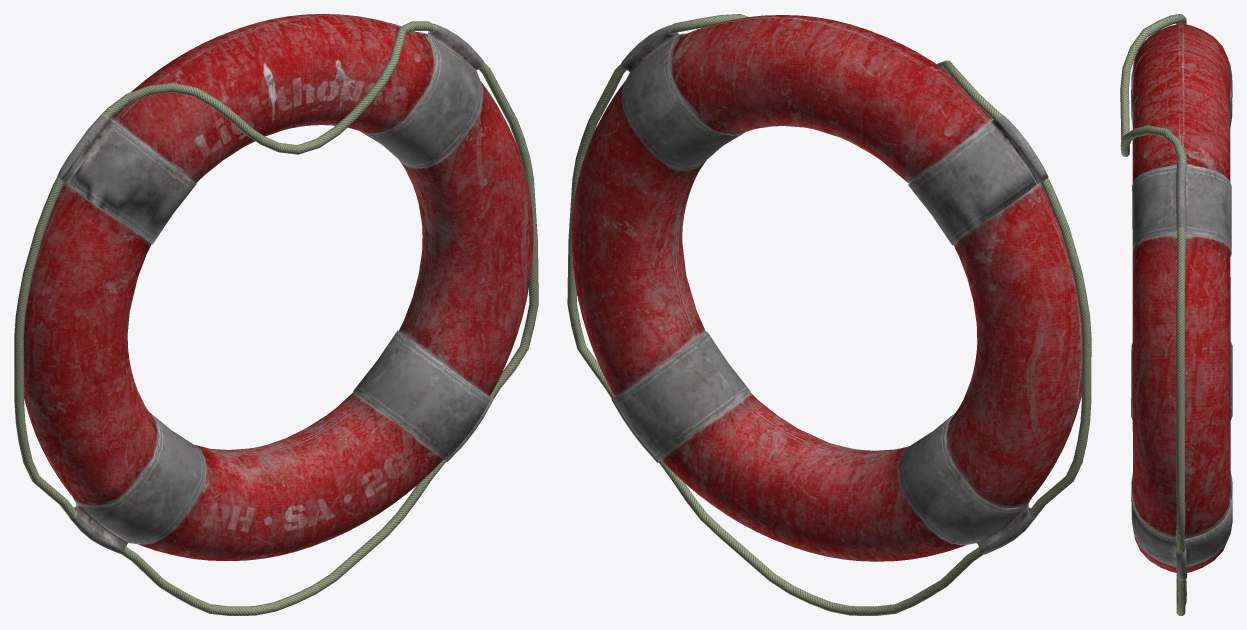
Rendered from lifebuoy_1k.gltf.
3 renders of one model, left to right at view 1: azimuth 30°, elevation 25°; view 2: azimuth 150°, elevation 25°; view 3: azimuth 270°, elevation 25°, orthographic. The views are drawn at different scales.
Visible parts, largest first — view 1: lifebuoy; view 2: lifebuoy; view 3: lifebuoy.
Part boxes in pixels (x1,y1,x2,y2): lifebuoy: (14,14,538,615); lifebuoy: (567,14,1091,615); lifebuoy: (1120,14,1232,615).
Size of the model in its own units: 0.783 by 0.8412 by 0.1548.
1 material, 1 textured.
